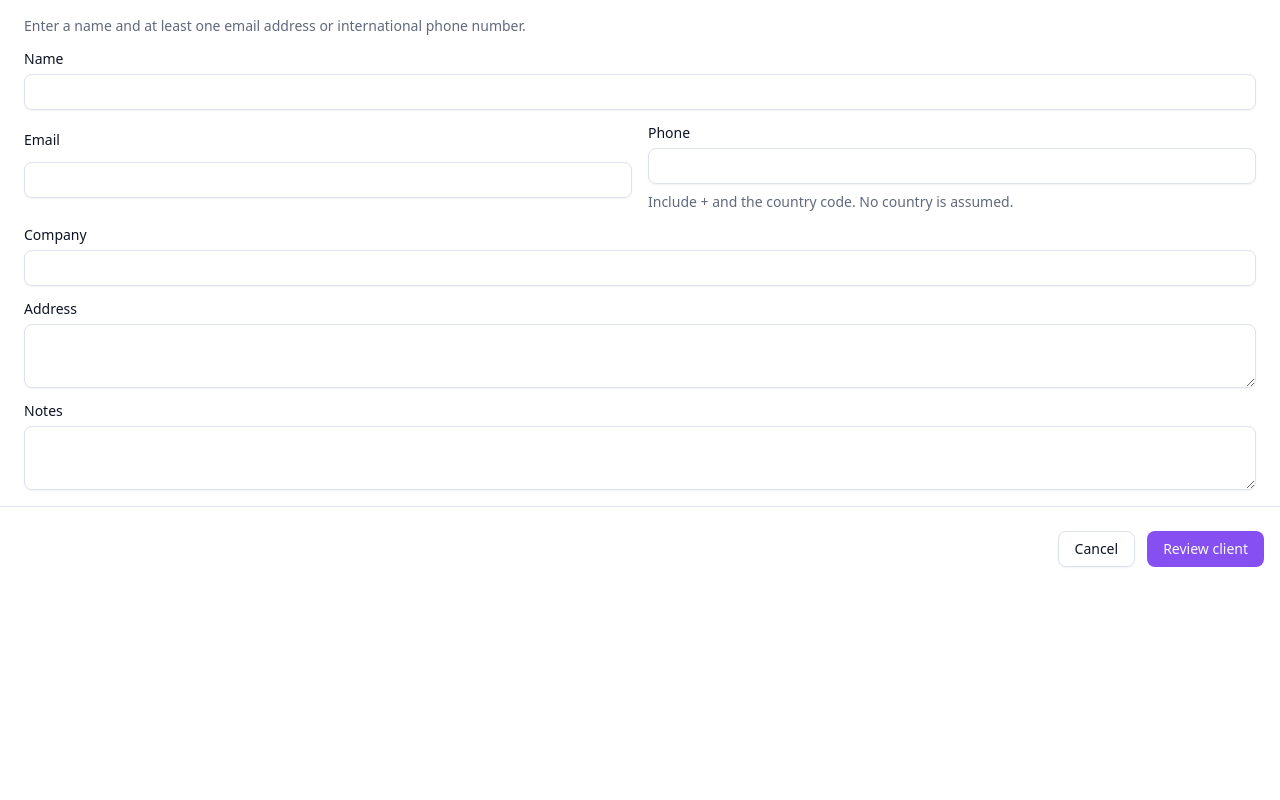
Test: confirmed client creation › validates the RHF form before preparing and confirms exactly the server preview
Later steps or results of the test are not shown.
Click the button "Review client" at (1206, 549), box [1147,531,1264,567]
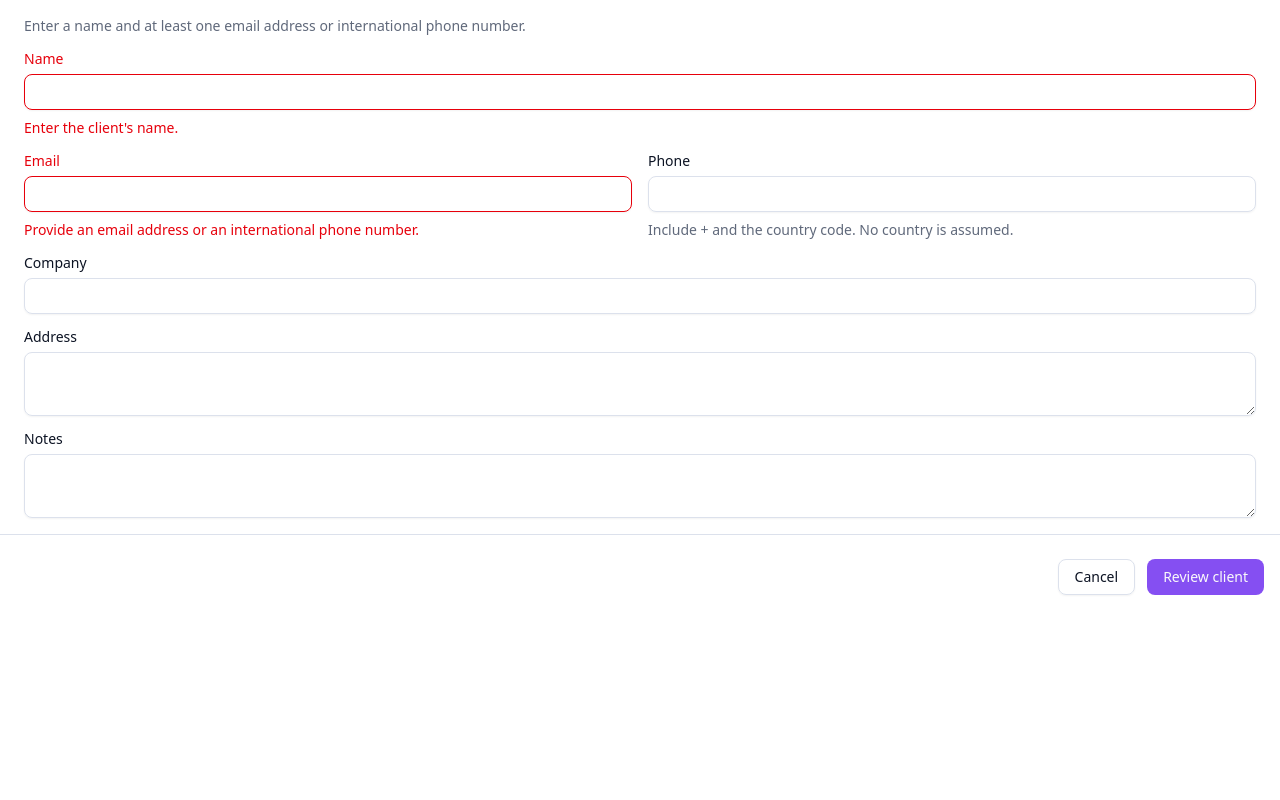
Expected: the text "Enter the client's name." is shown, [24,118,178,137]
Type " Ana Perez " into the field labelled "Name" at (640, 92), box [24,74,1256,110]
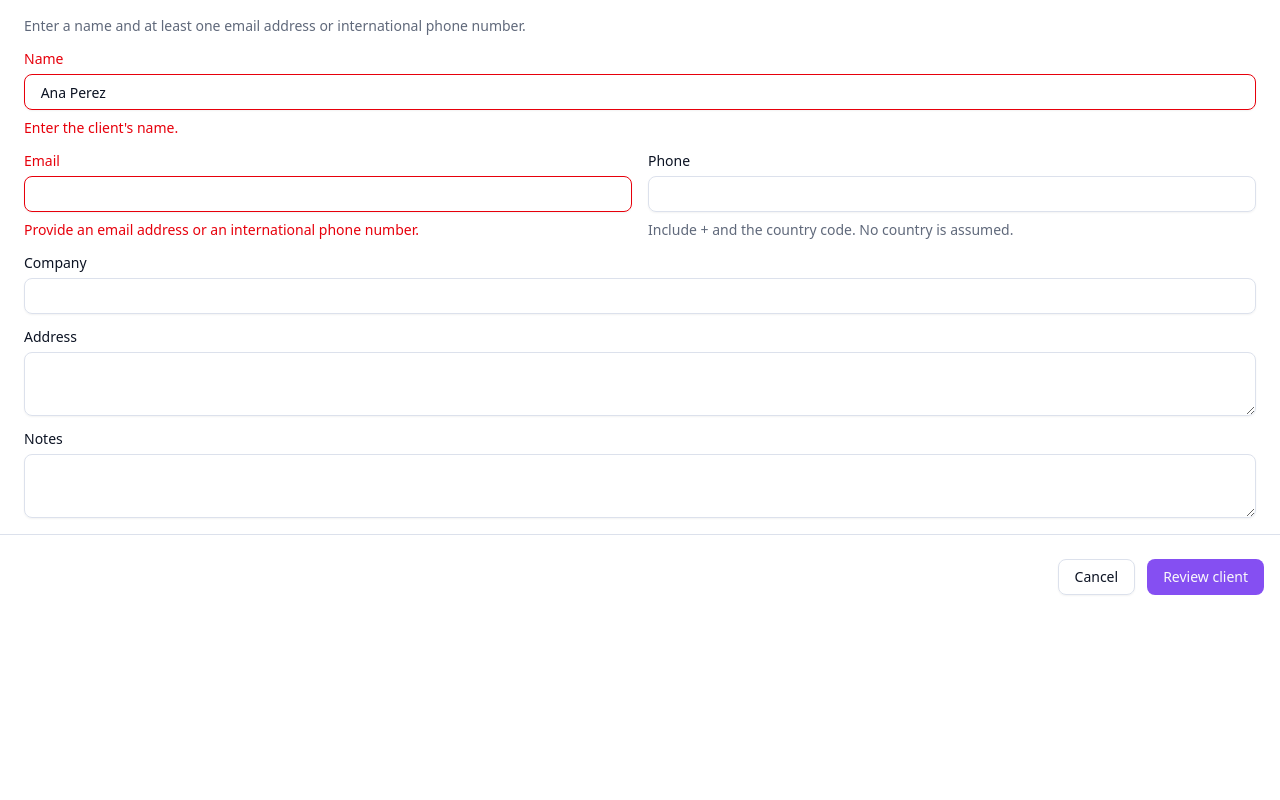
Type "ANA@EXAMPLE.COM" into the field labelled "Email" at (328, 194), box [24,176,632,212]
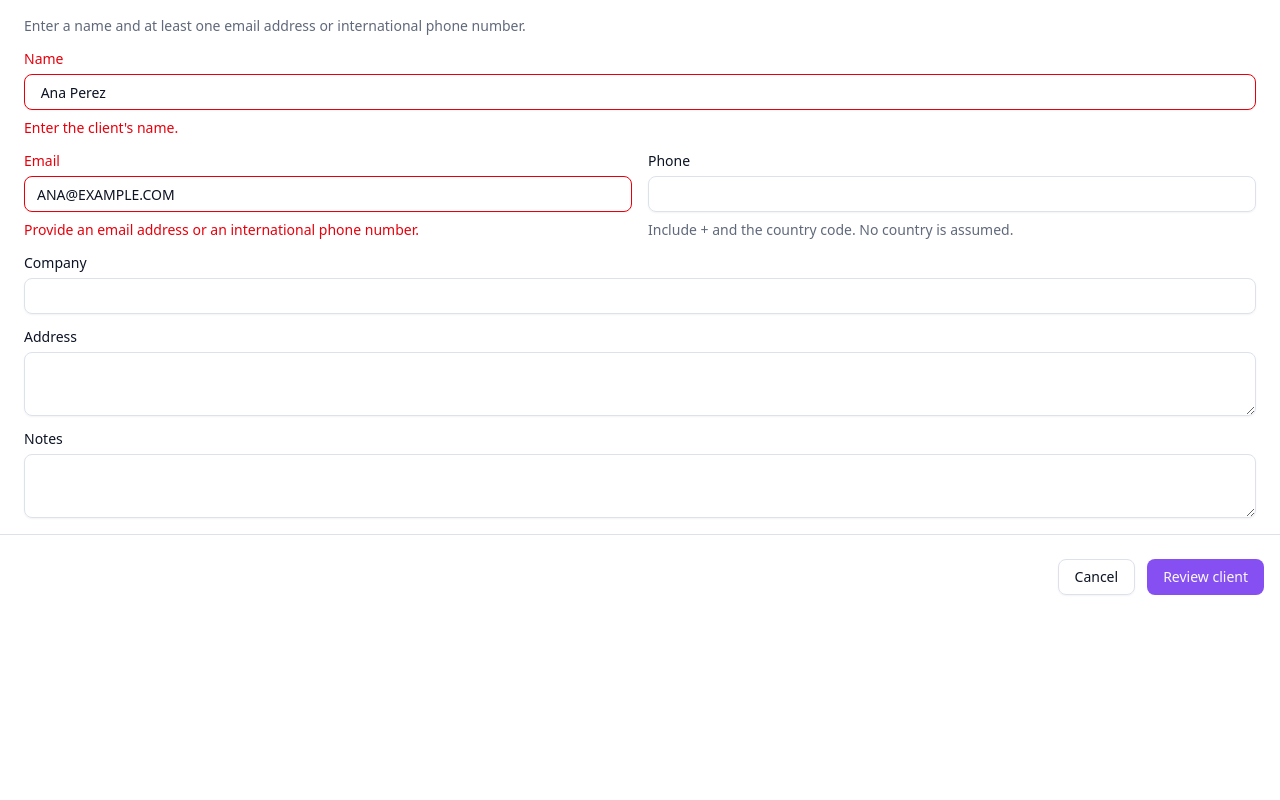
Type "+53 5123 4567" into the field labelled "Phone" at (952, 194), box [648,176,1256,212]
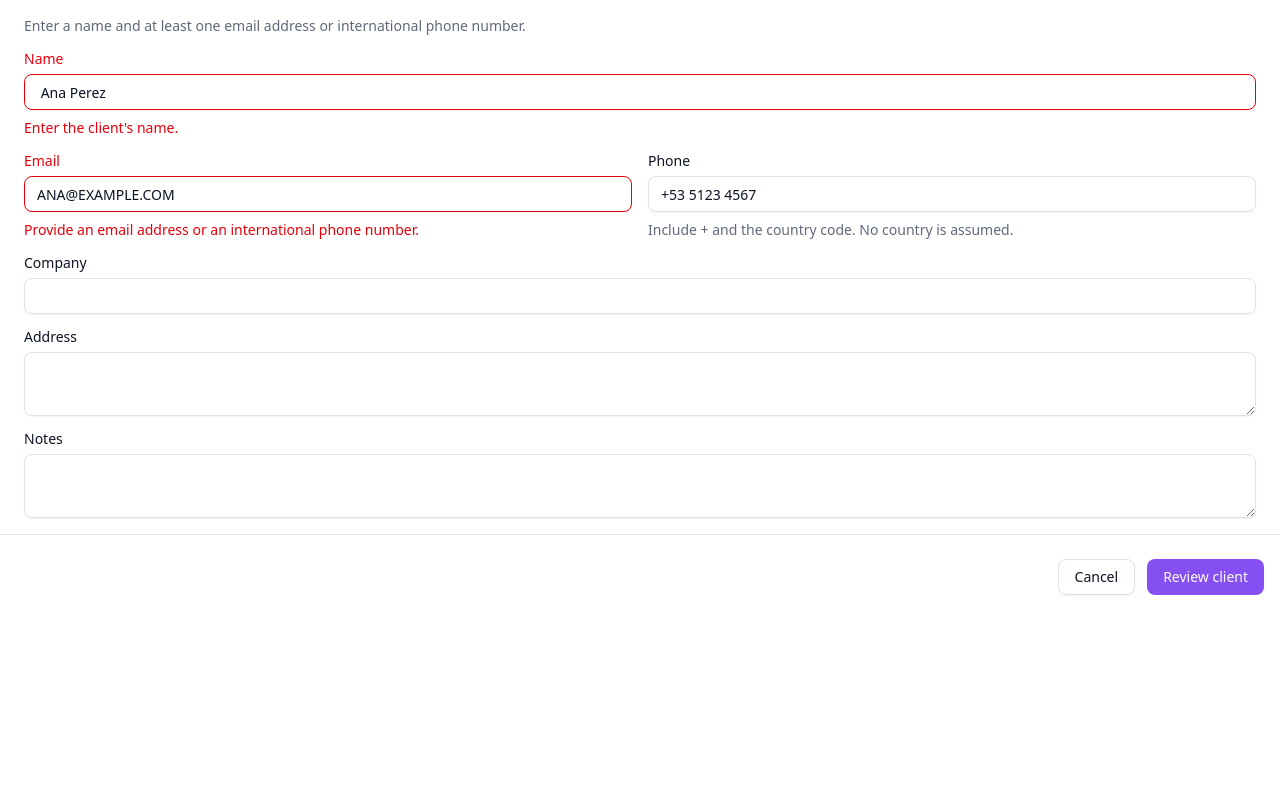
Type " Demo " into the field labelled "Company" at (640, 296), box [24,278,1256,314]
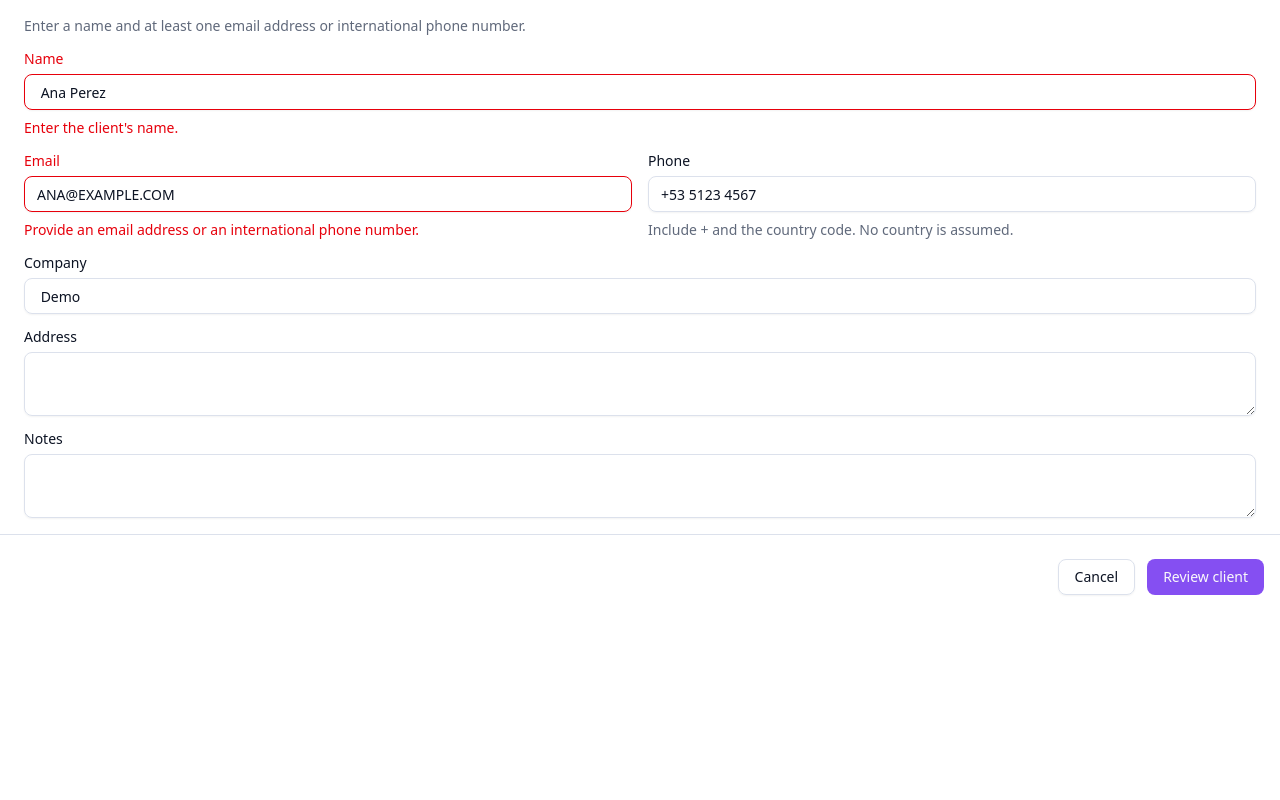
Click the button "Review client" at (1206, 577), box [1147,559,1264,595]
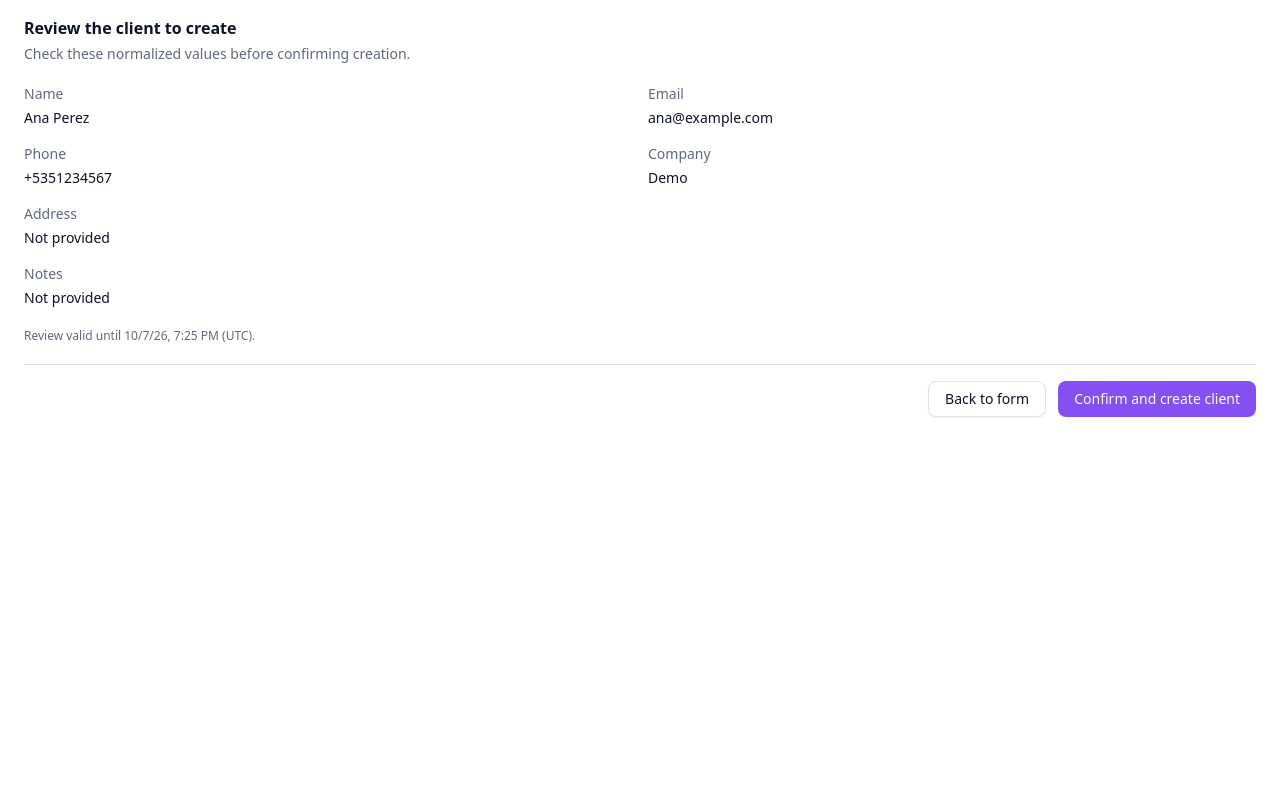
Expected: the element "Review the client to create" is shown, [0,0,1279,433]
Expected: the text "ana@example.com" is shown, [648,108,773,127]
Expected: the text "+5351234567" is shown, [24,168,112,187]
